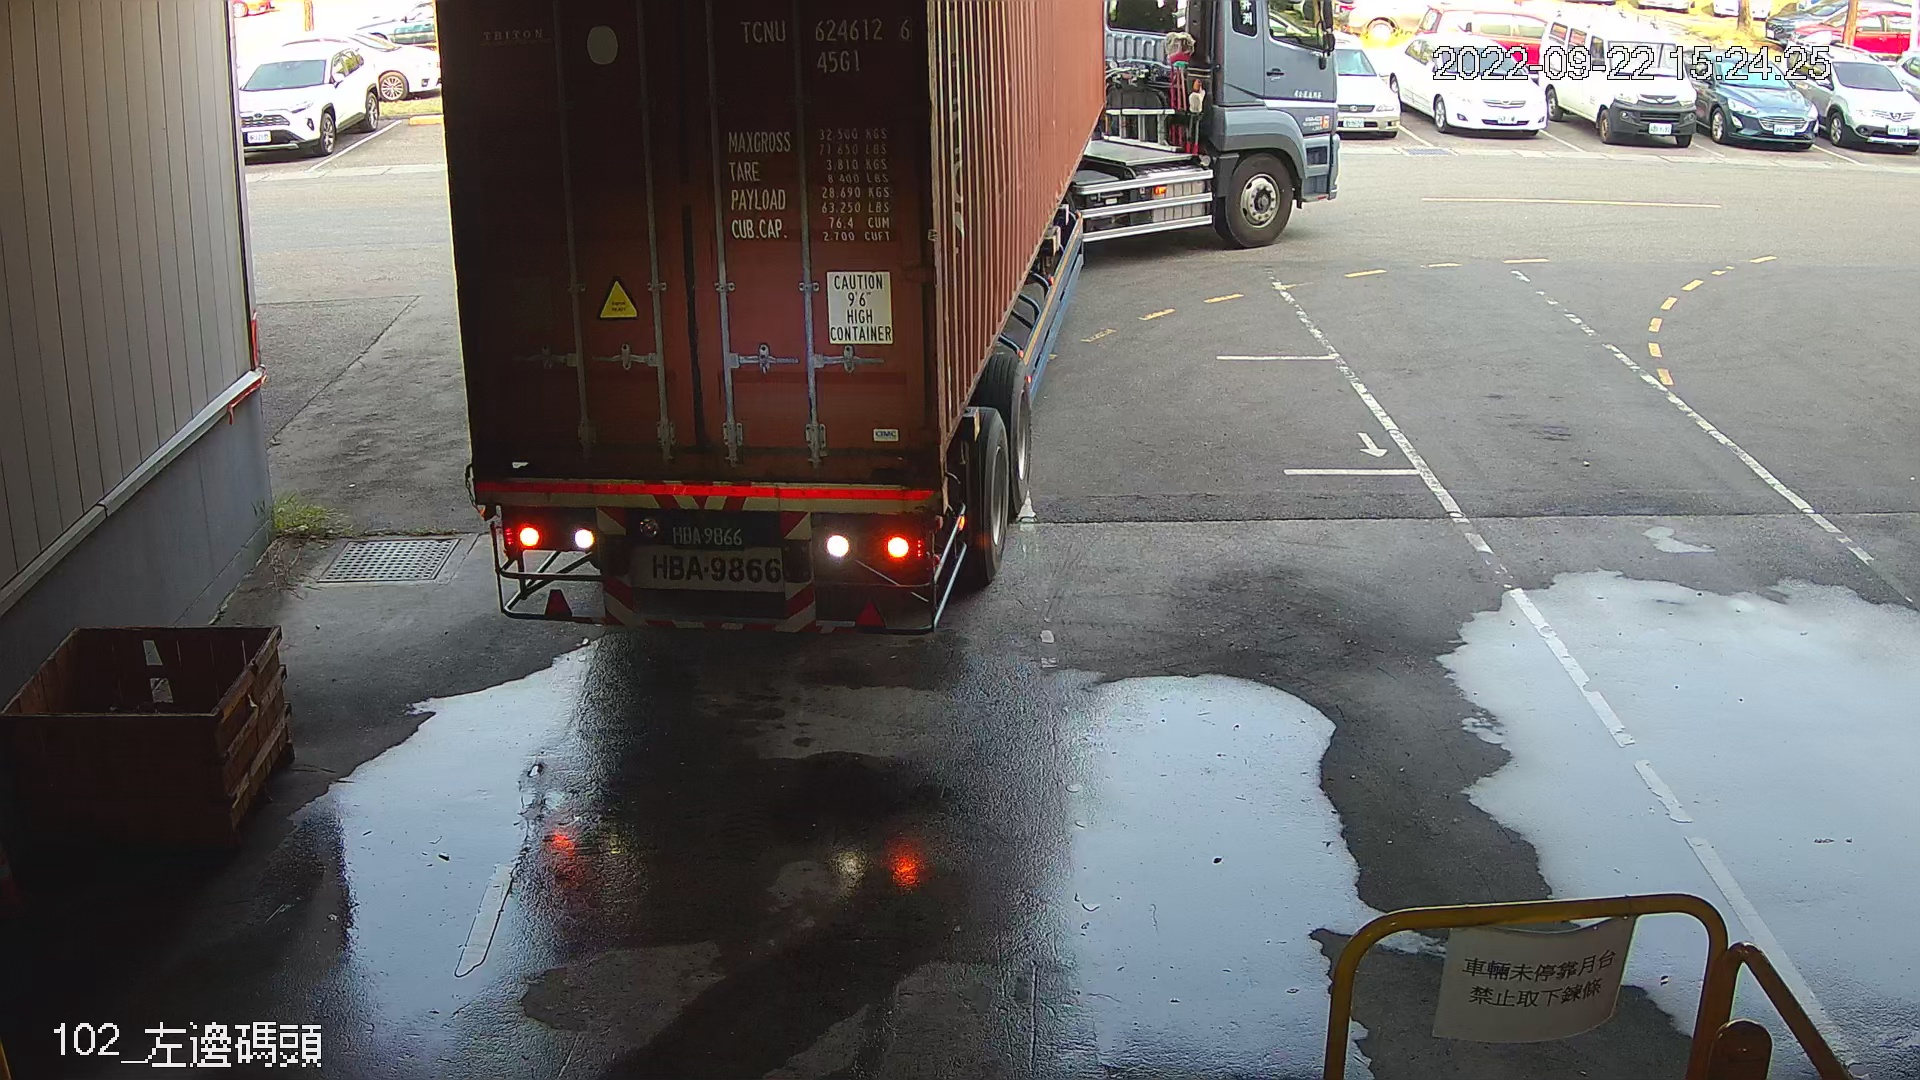container: (731, 11, 916, 79)
